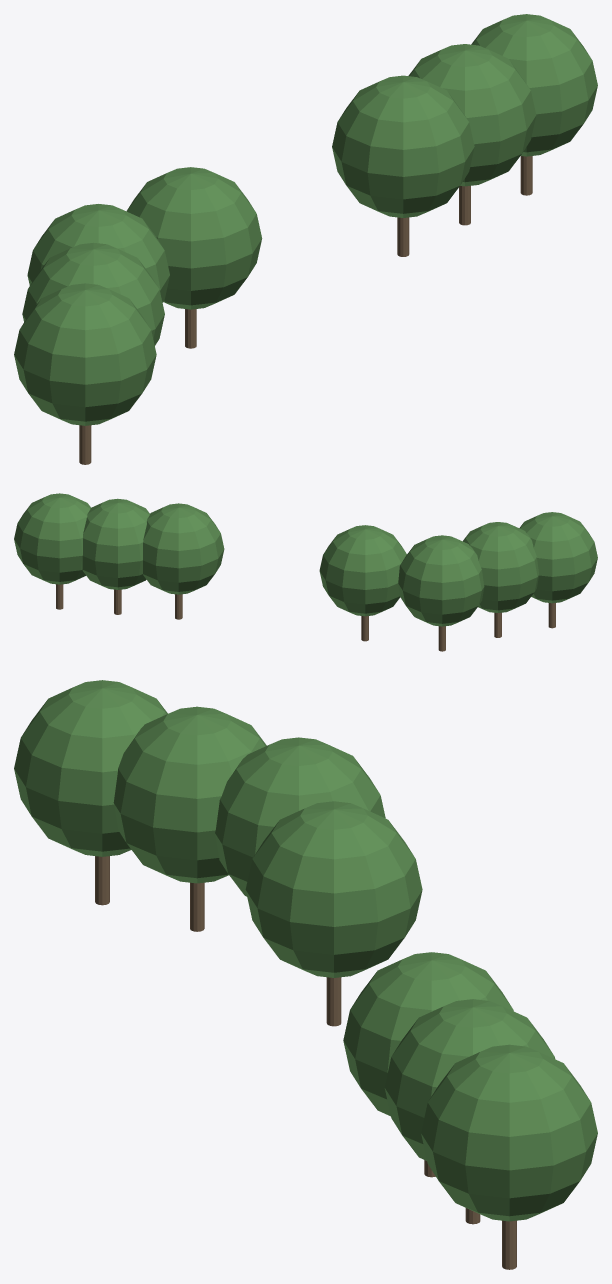
The model's file is trees-663-12977-50b2a337234b.glb.
3 renders of one model, top to bottom at view 1: azimuth 30°, elevation 25°; view 2: azimuth 150°, elevation 25°; view 3: azimuth 270°, elevation 25°, orthographic. The views are drawn at different scales.
Size of the model in its own units: 70.79 by 16.23 by 39.6.
